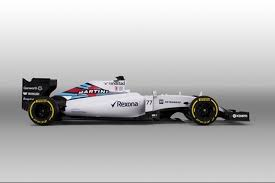FormulaOneCar: (14, 68, 256, 134)
